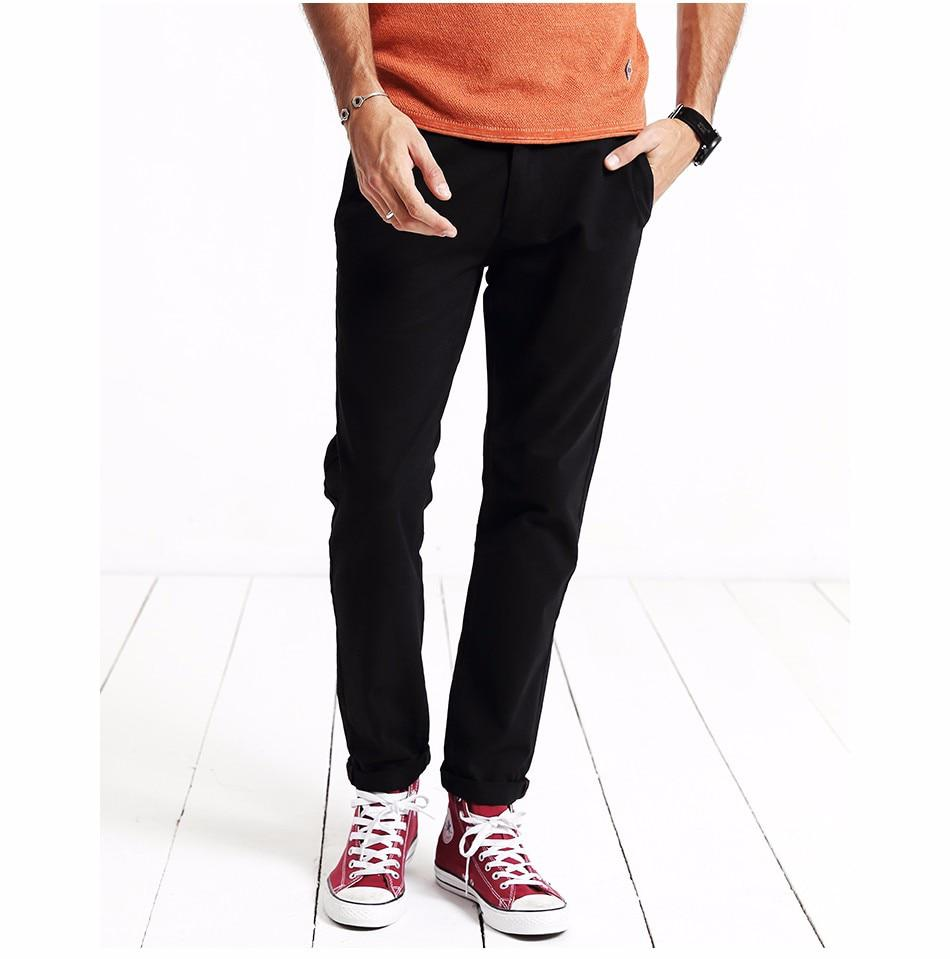pants: (327, 134, 649, 792)
